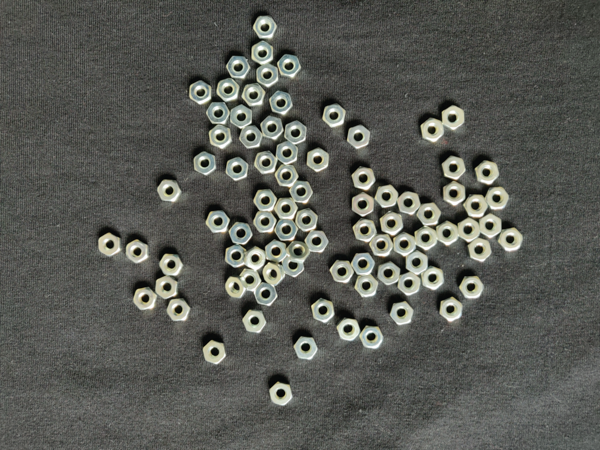nut: (475, 160, 500, 186), (498, 228, 524, 252), (443, 181, 467, 207), (421, 118, 445, 143), (442, 156, 467, 180), (398, 271, 422, 296), (390, 301, 414, 326), (377, 261, 401, 286), (359, 326, 384, 350), (380, 211, 404, 236), (355, 274, 380, 298), (353, 218, 378, 242), (347, 125, 371, 150), (254, 282, 279, 306), (217, 78, 241, 103), (133, 287, 158, 311), (479, 213, 502, 239), (440, 297, 463, 323), (99, 231, 122, 257), (485, 187, 509, 211), (442, 106, 466, 130), (352, 167, 376, 191), (330, 260, 354, 284), (243, 310, 267, 334), (270, 91, 294, 115), (254, 151, 278, 175), (242, 83, 266, 107), (464, 195, 489, 218), (417, 203, 442, 226), (415, 226, 438, 251), (406, 250, 429, 275), (394, 232, 417, 257), (374, 185, 399, 208), (336, 318, 361, 341), (312, 298, 335, 323), (294, 337, 319, 360), (305, 230, 330, 253), (286, 241, 311, 264), (263, 262, 286, 287), (203, 340, 226, 365), (253, 16, 278, 39), (206, 102, 231, 125), (209, 124, 232, 149), (194, 151, 217, 176), (206, 210, 231, 233), (167, 299, 192, 322), (126, 239, 149, 264), (459, 277, 485, 299), (468, 239, 492, 262), (421, 267, 445, 290), (398, 192, 421, 216), (369, 234, 393, 257), (270, 382, 293, 406), (323, 104, 346, 128), (296, 208, 319, 232), (278, 54, 301, 78), (261, 116, 284, 140), (227, 56, 251, 79), (239, 126, 263, 149), (226, 157, 249, 181), (229, 222, 253, 245), (156, 276, 179, 300), (458, 218, 480, 243), (437, 221, 459, 246), (351, 253, 376, 275), (352, 192, 374, 217), (307, 148, 329, 173), (289, 181, 314, 203), (257, 63, 279, 88), (244, 246, 266, 271), (159, 254, 184, 276), (275, 219, 299, 241), (265, 240, 287, 264), (252, 41, 274, 65), (285, 121, 307, 145), (275, 164, 299, 186), (277, 141, 299, 165), (254, 190, 278, 212), (231, 105, 253, 129), (190, 81, 212, 105), (158, 180, 182, 202), (282, 256, 305, 278), (240, 269, 262, 292), (226, 276, 248, 299), (274, 198, 298, 219), (254, 212, 277, 233), (226, 245, 247, 268)
